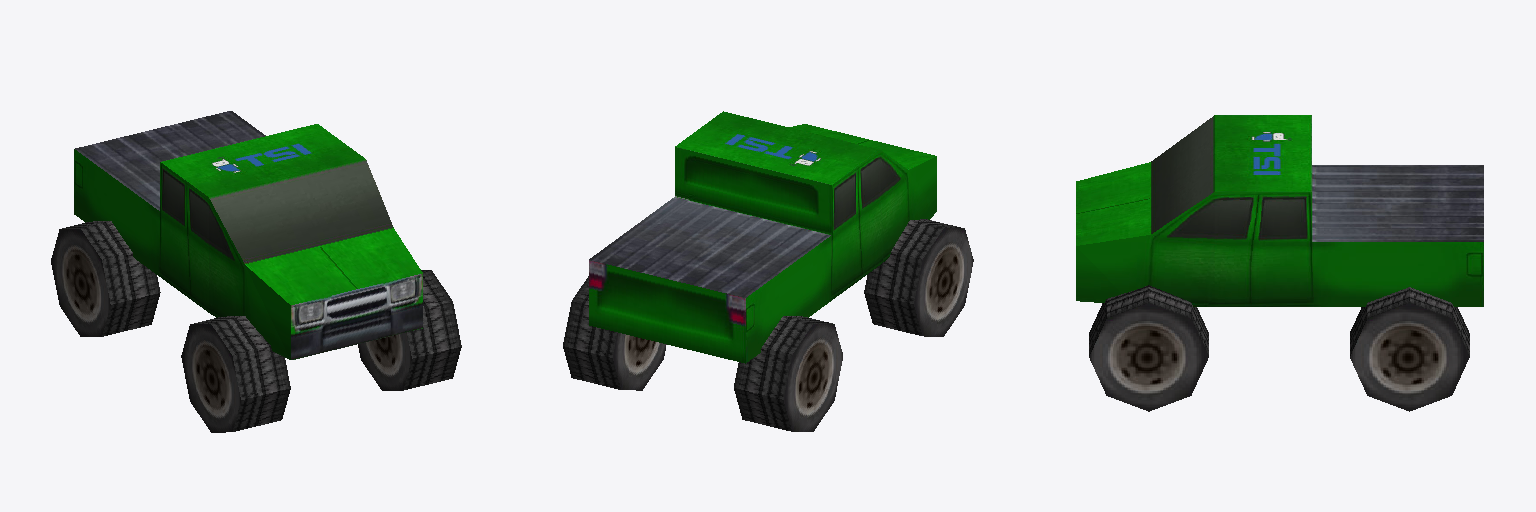
3 views of the same model, side by side, from view 1: azimuth 30°, elevation 25°; view 2: azimuth 150°, elevation 25°; view 3: azimuth 270°, elevation 25° (orthographic).
Parts seen in each view (by area): view 1: Cube; view 2: Cube; view 3: Cube.
Boxes of the visible parts, box(x1,y1,x2,y2) form: Cube: box(51, 111, 461, 432); Cube: box(563, 111, 973, 431); Cube: box(1076, 115, 1483, 411).
Size of the model in its own units: 0.535 by 0.4721 by 0.857.
Materials: 1 (1 with a texture image).